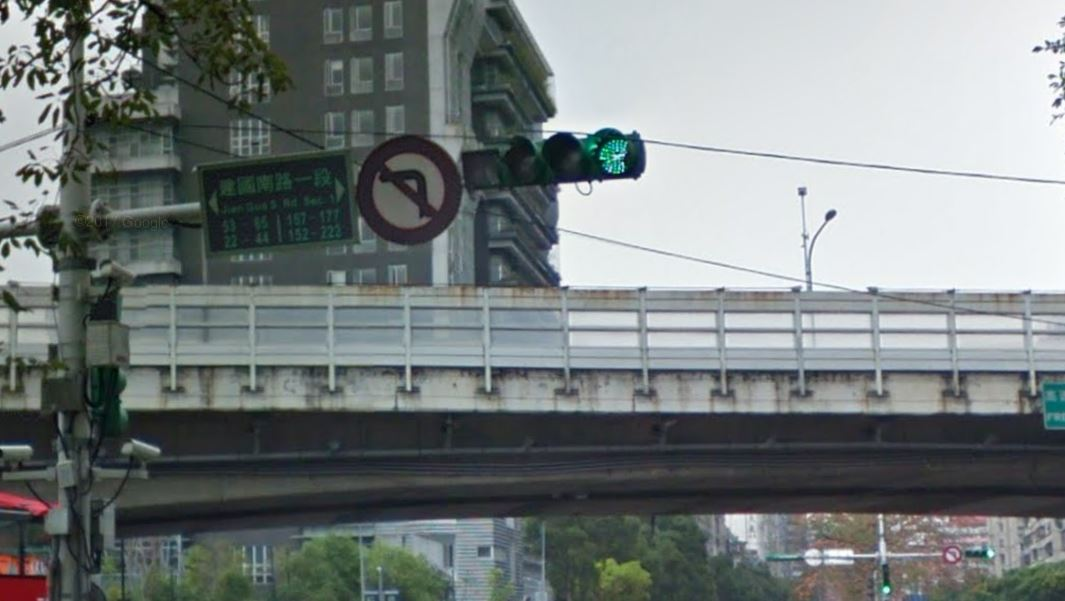No_left_turn: (357, 137, 461, 244)
Traffic_light_green: (503, 128, 645, 185)
